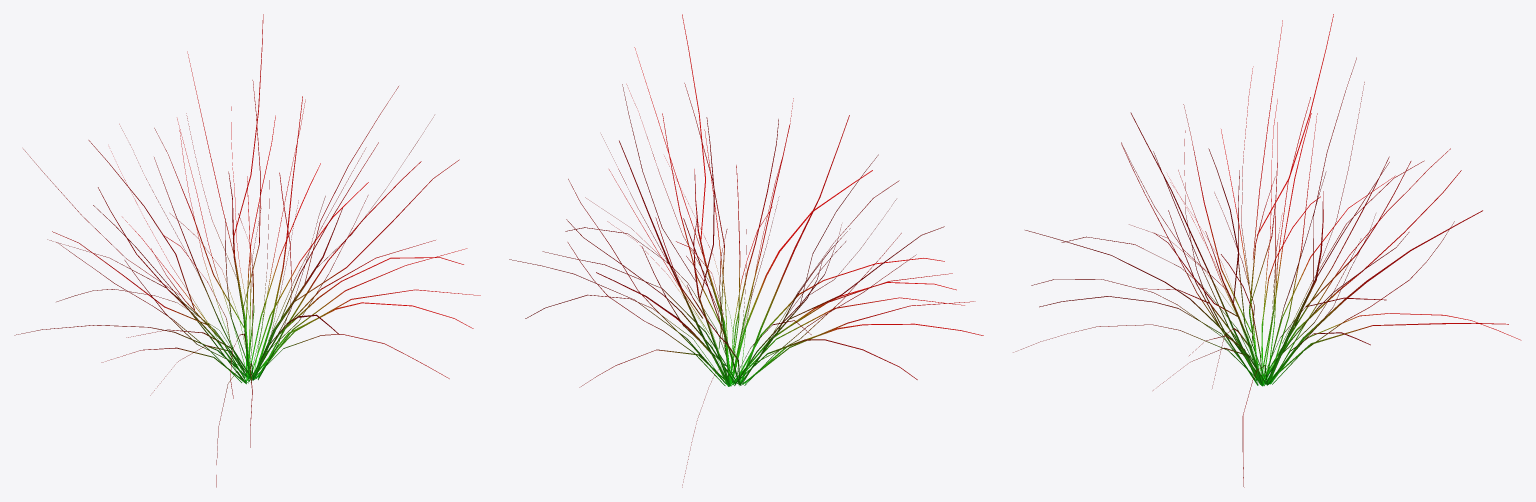
Rendered from Xeric Grass_LOD1_Var2_xjfgdhaqx.fbx.
The picture shows the model from 3 angles, left to right: view 1: azimuth 30°, elevation 25°; view 2: azimuth 150°, elevation 25°; view 3: azimuth 270°, elevation 25°; orthographic projection. The views are drawn at different scales.
Visible parts, largest first — view 1: _ii2i_Var2_LOD1; view 2: _ii2i_Var2_LOD1; view 3: _ii2i_Var2_LOD1.
Part boxes in pixels (<box>): _ii2i_Var2_LOD1: <box>14,14,480,487</box>; _ii2i_Var2_LOD1: <box>509,14,983,487</box>; _ii2i_Var2_LOD1: <box>1013,14,1521,487</box>.
Bounding box in the file's own units: 155 × 110 × 153.
